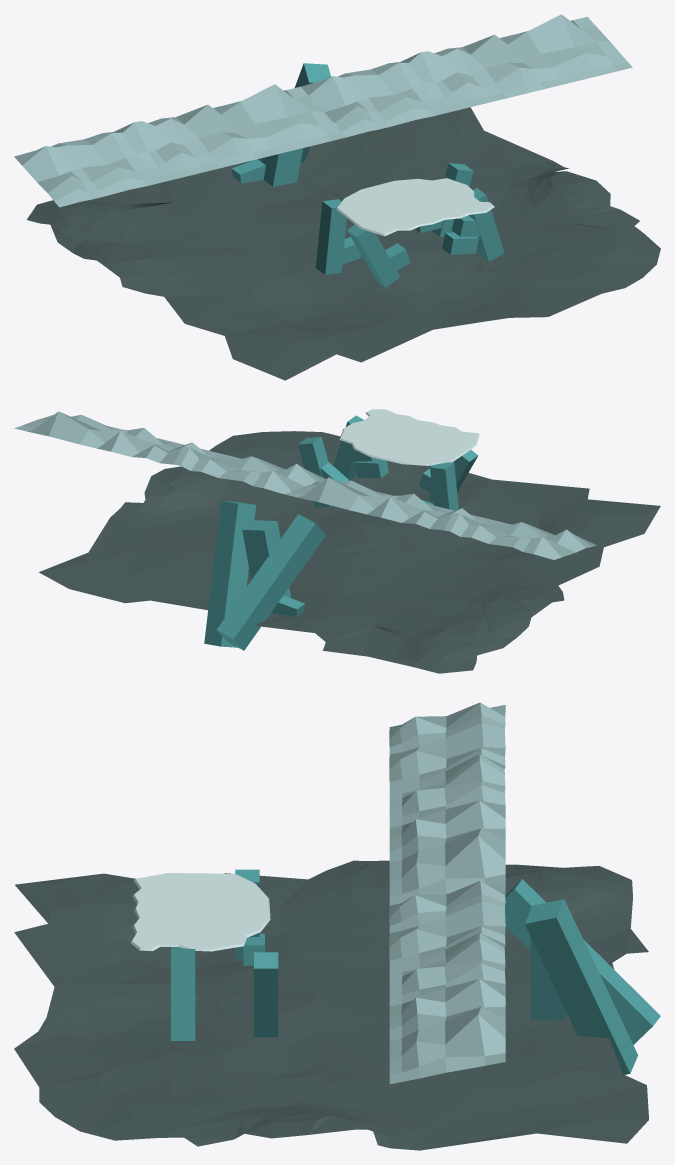
File: Environment block out1.fbx
3 views of the same model, one above another, from view 1: azimuth 30°, elevation 25°; view 2: azimuth 150°, elevation 25°; view 3: azimuth 270°, elevation 25° (orthographic). The views are drawn at different scales.
Visible parts, largest first — view 1: pPlane1, pPlane2, pPlane3, polySurface1, pCube12, pCube4, pCube3, pCube13, pCube8, pCube14, pCube6, pCube15; view 2: pPlane1, pPlane2, pPlane3, polySurface1, pCube16, pCube14, pCube13, pCube12, pCube8, pCube3, pCube6, pCube4 (+1 smaller); view 3: pPlane1, pPlane3, pPlane2, polySurface1, pCube14, pCube16, pCube3, pCube8, pCube13.
Boxes of the visible parts, box(x1,y1,x2,y2) form: pPlane1: box(27, 107, 660, 380); pPlane2: box(14, 84, 345, 207); pPlane3: box(301, 14, 632, 137); polySurface1: box(336, 178, 494, 236); pCube12: box(315, 199, 346, 274); pCube4: box(347, 224, 400, 287); pCube3: box(468, 188, 504, 261); pCube13: box(261, 90, 302, 186); pCube8: box(431, 163, 473, 237); pCube14: box(294, 63, 330, 162); pCube6: box(442, 232, 478, 254); pCube15: box(231, 159, 265, 183); pPlane1: box(39, 431, 660, 673); pPlane2: box(285, 477, 596, 559); pPlane3: box(14, 411, 325, 494); polySurface1: box(339, 409, 479, 465); pCube16: box(216, 514, 325, 650); pCube14: box(204, 501, 256, 647); pCube13: box(242, 520, 290, 597); pCube12: box(430, 462, 458, 531); pCube8: box(298, 437, 330, 507); pCube3: box(333, 415, 363, 480); pCube6: box(354, 458, 388, 478); pCube4: box(428, 450, 478, 502); pPlane1: box(14, 860, 648, 1150); pPlane3: box(389, 881, 505, 1084); pPlane2: box(389, 702, 505, 905); polySurface1: box(130, 873, 270, 951); pCube14: box(525, 899, 637, 1074); pCube16: box(505, 879, 660, 1044); pCube3: box(171, 947, 195, 1040); pCube8: box(254, 952, 278, 1037); pCube13: box(530, 908, 565, 1020).
Size of the model in its own units: 156 by 41.43 by 119.
